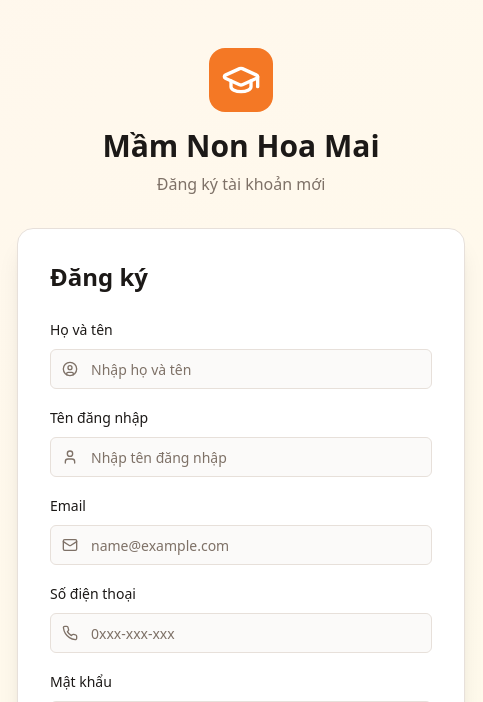
Test case: RegisterPage › shows success message on successful registration
Type "New User" into the field labelled "Họ và tên" at (241, 369), box [50,349,432,389]
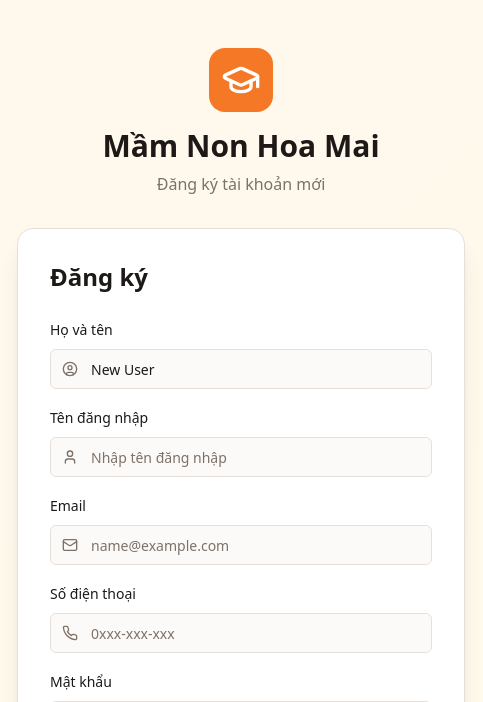
Type "newuser" into the field labelled "Tên đăng nhập" at (241, 457), box [50,437,432,477]
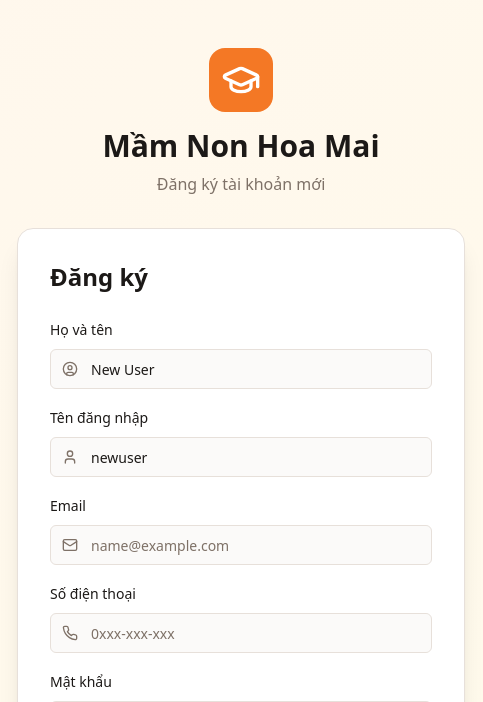
Type "test@ex.com" into the field labelled "Email" at (241, 545), box [50,525,432,565]
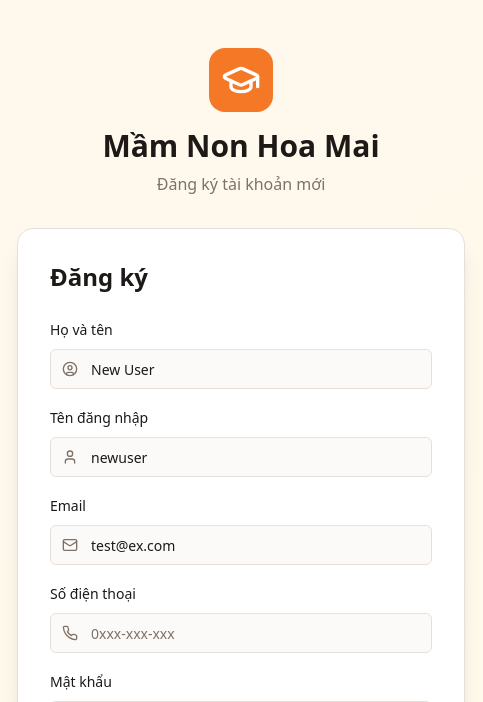
Type "0123456789" into the field labelled "Số điện thoại" at (241, 633), box [50,613,432,653]
(page scrolled)
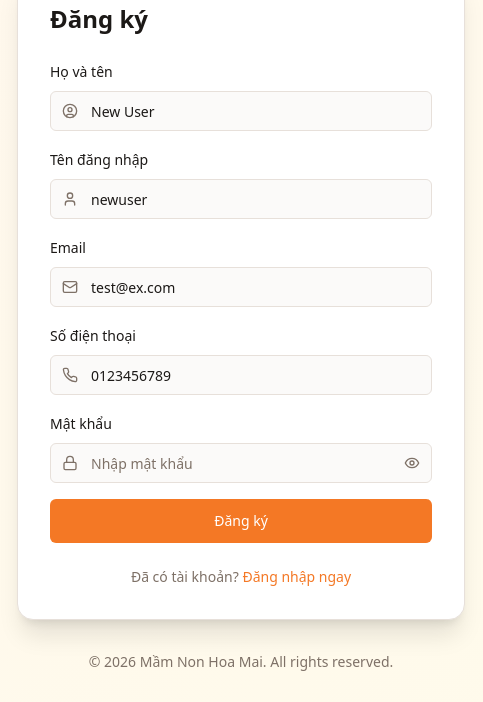
Type "password123" into the password field labelled "Mật khẩu" at (241, 463), box [50,443,432,483]
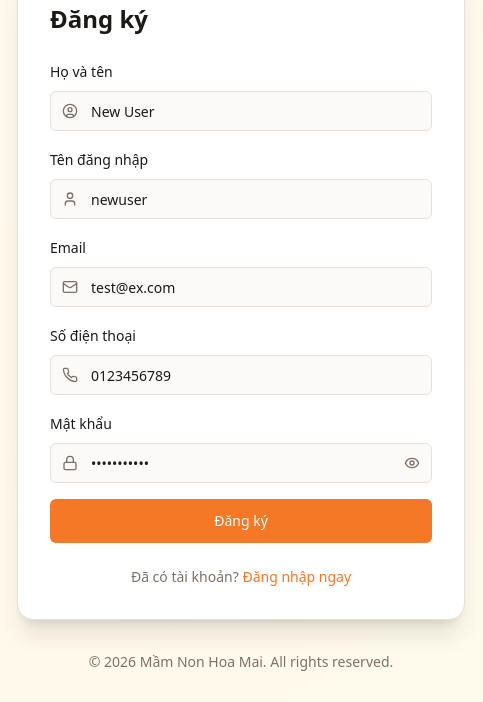
Click the button "Đăng ký" at (241, 521), box [50,499,432,543]
(page scrolled)
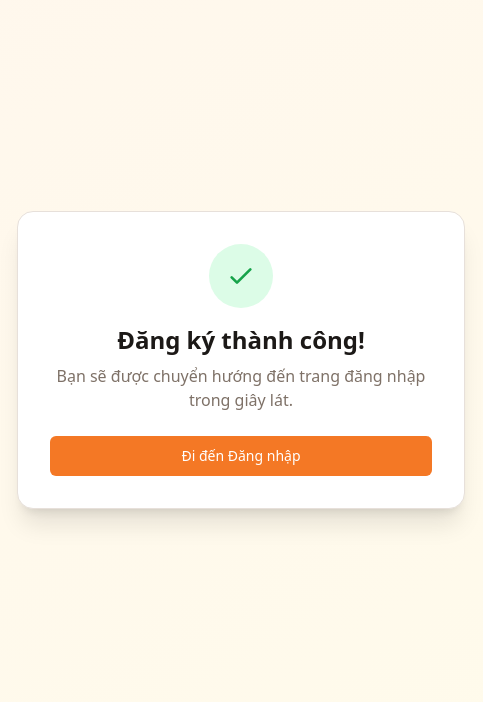
Expected: the heading "Đăng ký thành công!" is shown, [117,323,365,356]
Expected: the text "Bạn sẽ được chuyển hướng đến trang đăng nhập trong giây lát." is shown, [50,364,432,412]
